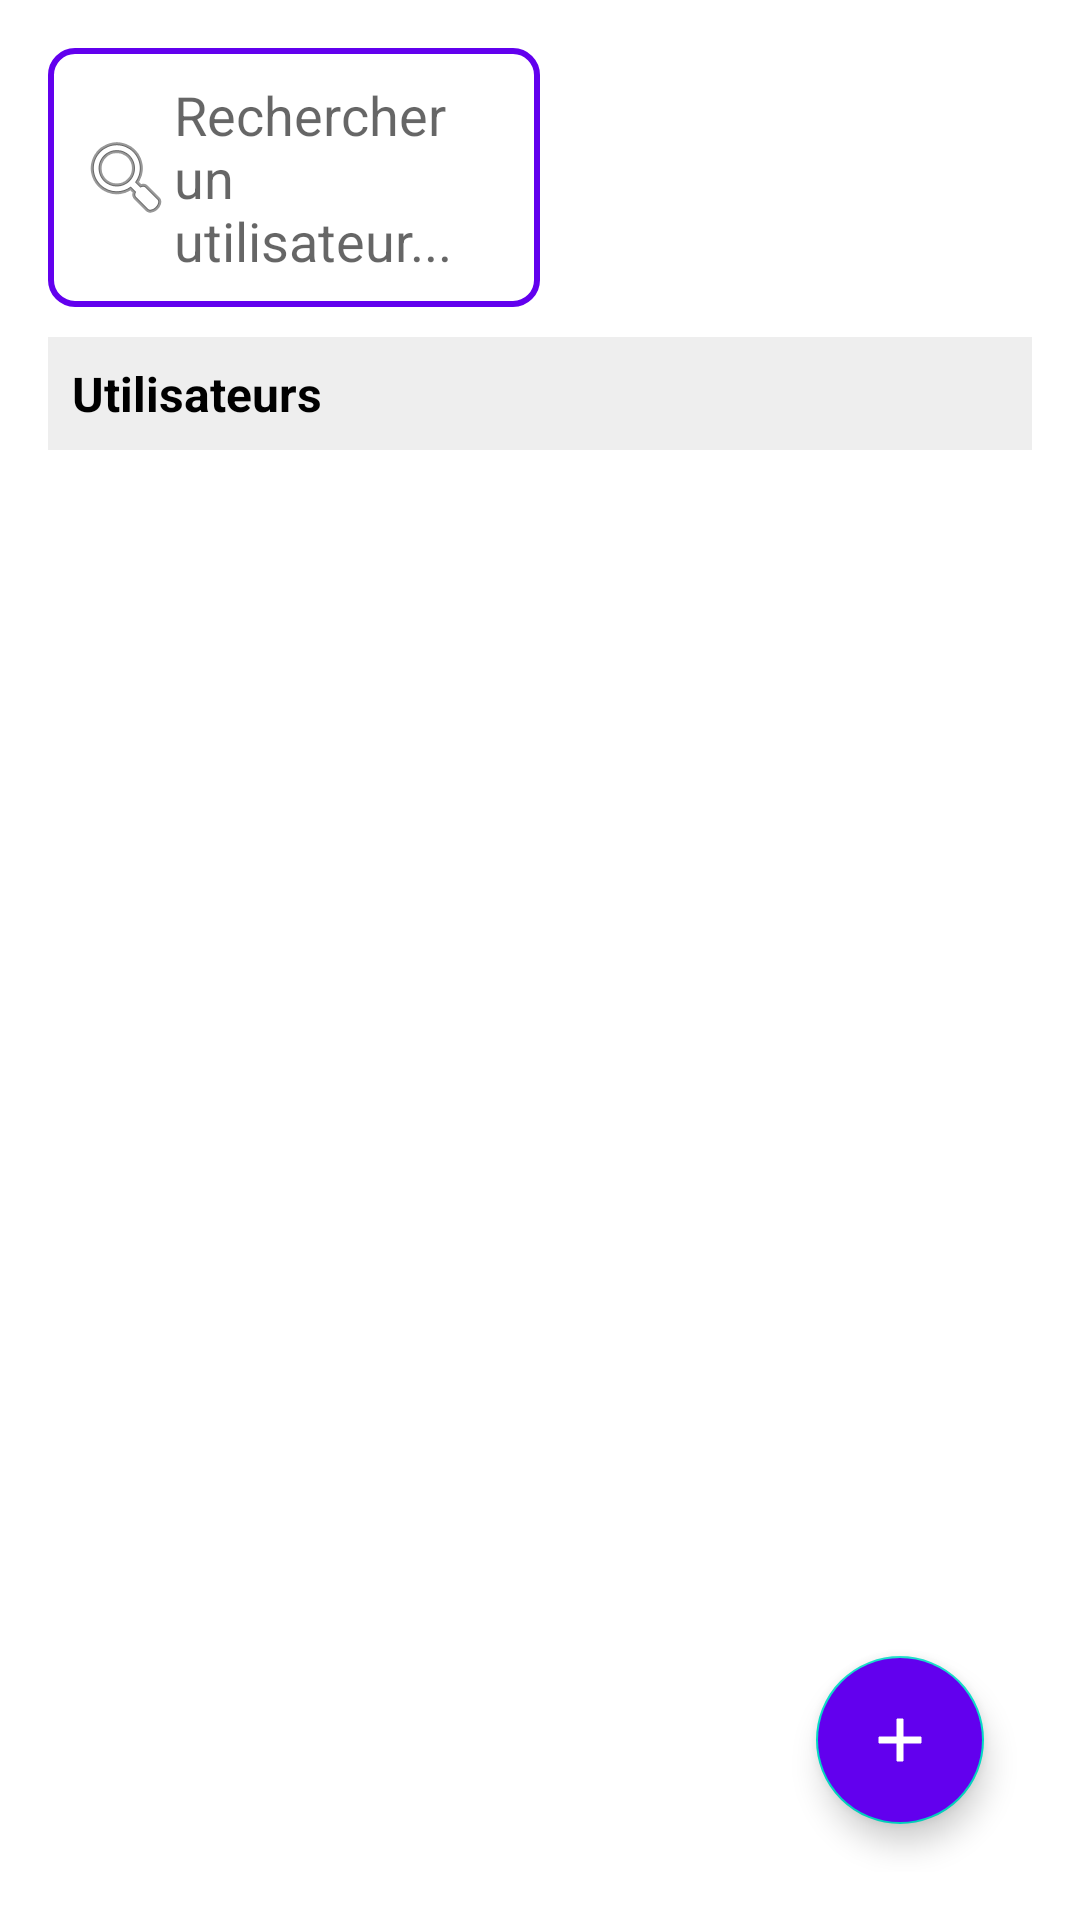

Point at icon controls on the screen. Image size 1080px x 1920px, points as (x=x, y=y).
Ajouter une option: (x=900, y=1740)
